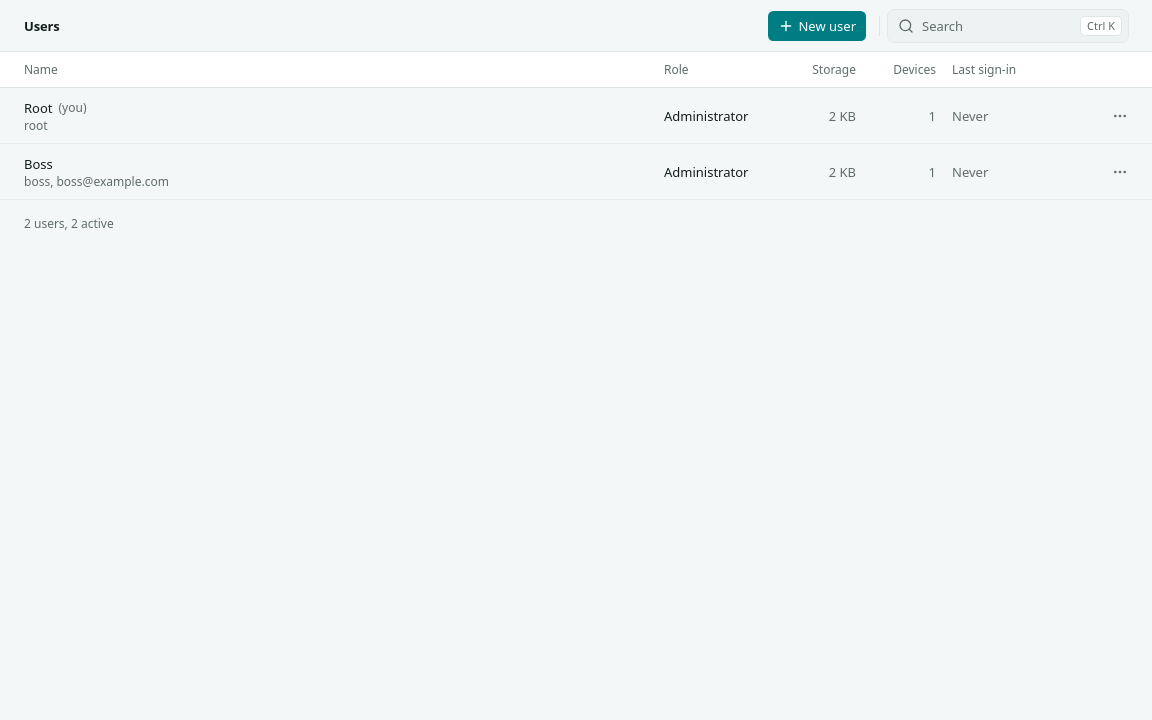
Scenario: shows the last-admin conflict inline when deleting, and explains the folder stays
Press Enter in the button named "Actions for Boss", box [1104, 156, 1136, 188]
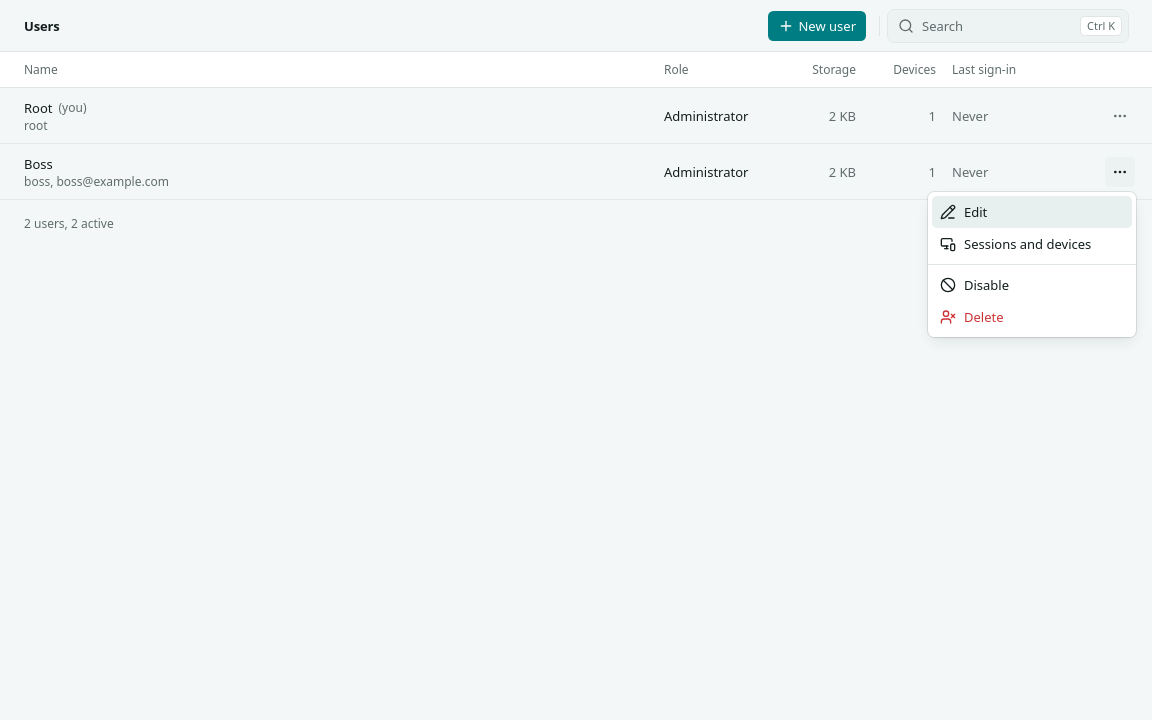
Click the menu item "Delete": (972, 317) [940, 308, 1004, 326]
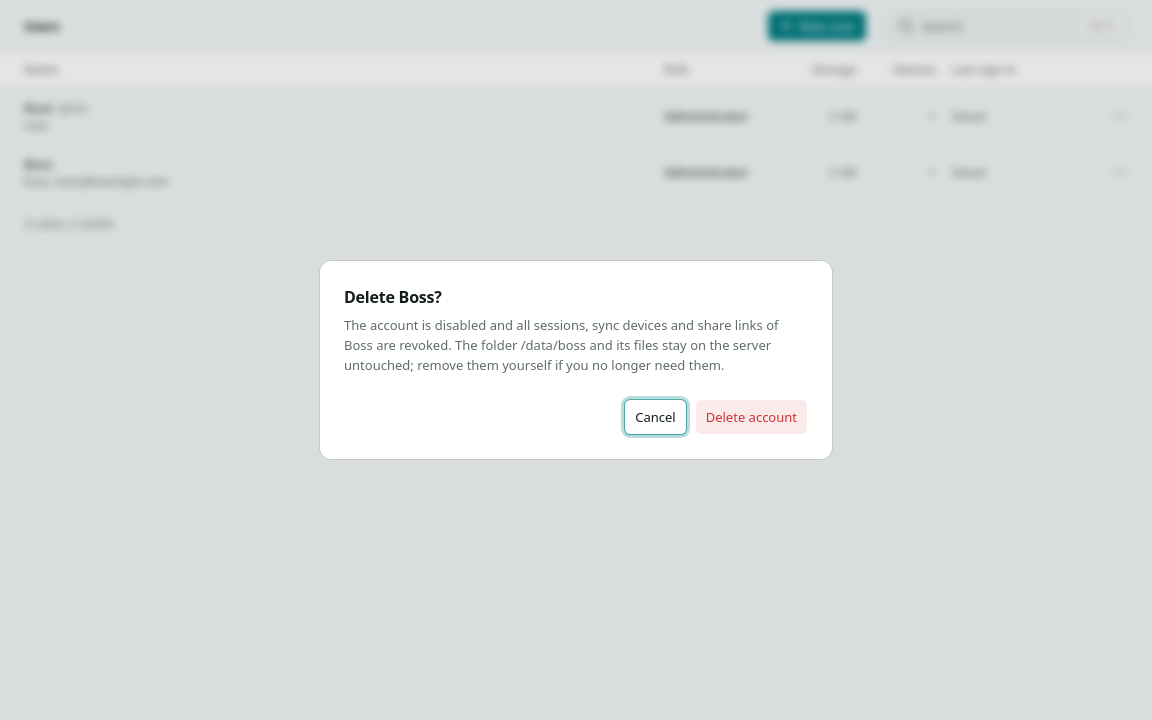
Expected: the dialog shows "/data/boss and its files stay on the server", [344, 316, 778, 374]
Click the button "Delete account": (751, 417) [695, 399, 808, 435]
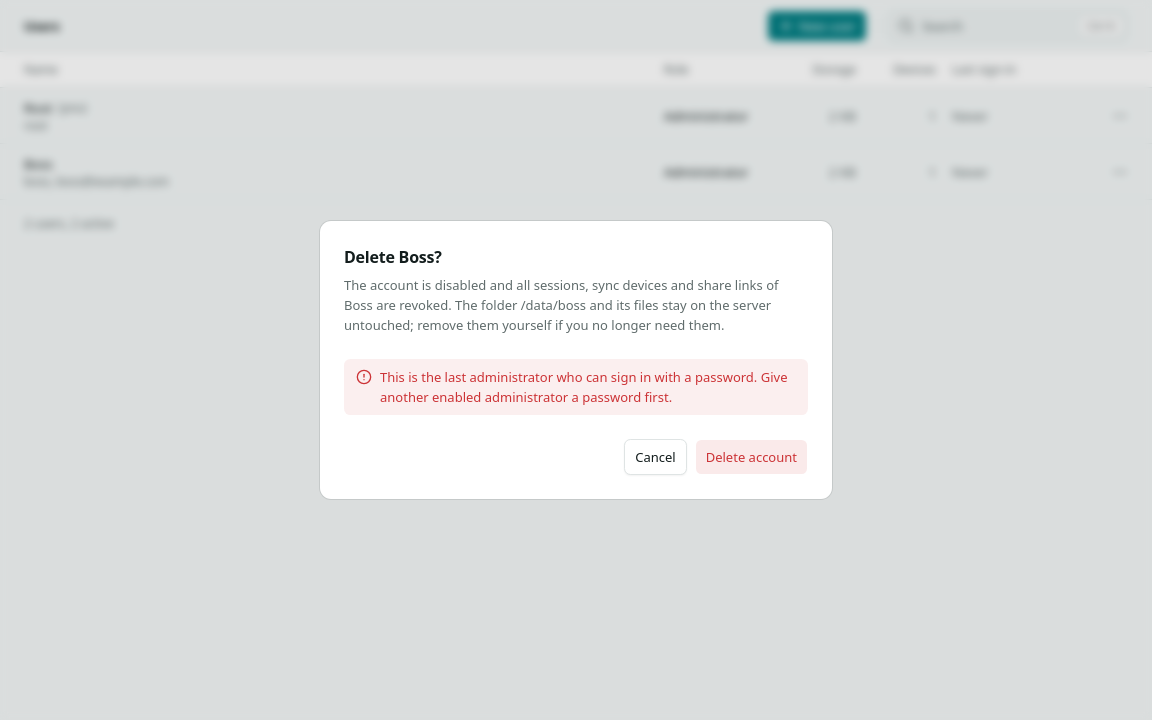
Expected: the message shows "last administrator", [380, 368, 788, 406]
